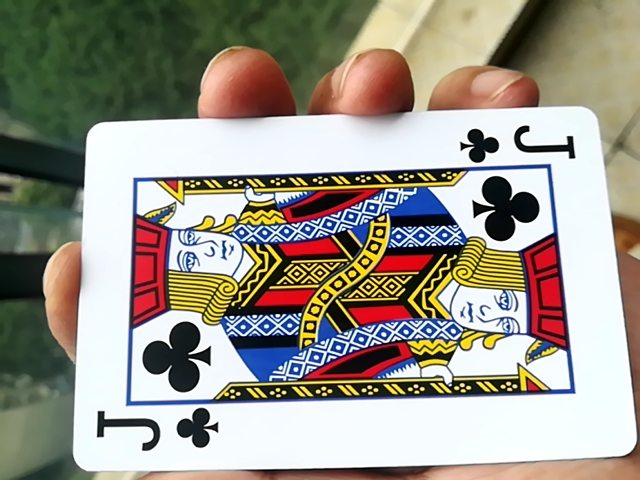mh j: (56, 112, 619, 472)
